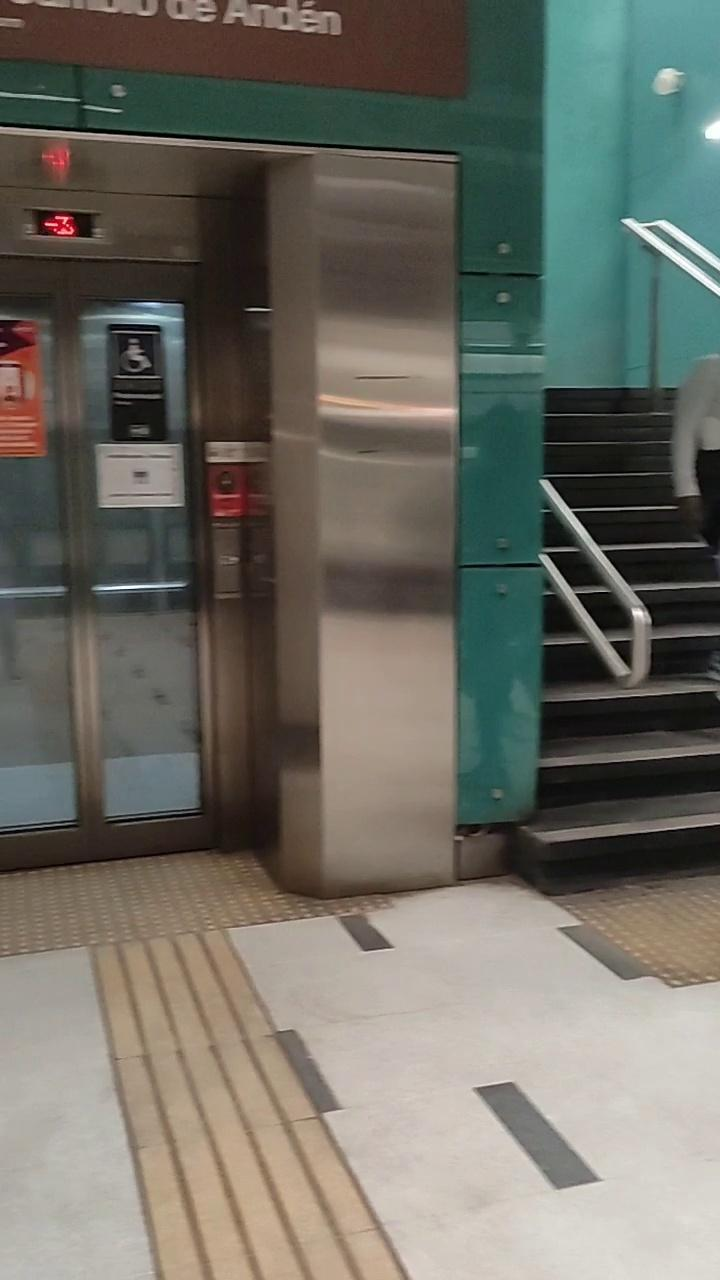handicapped symbol: (120, 338, 152, 372)
